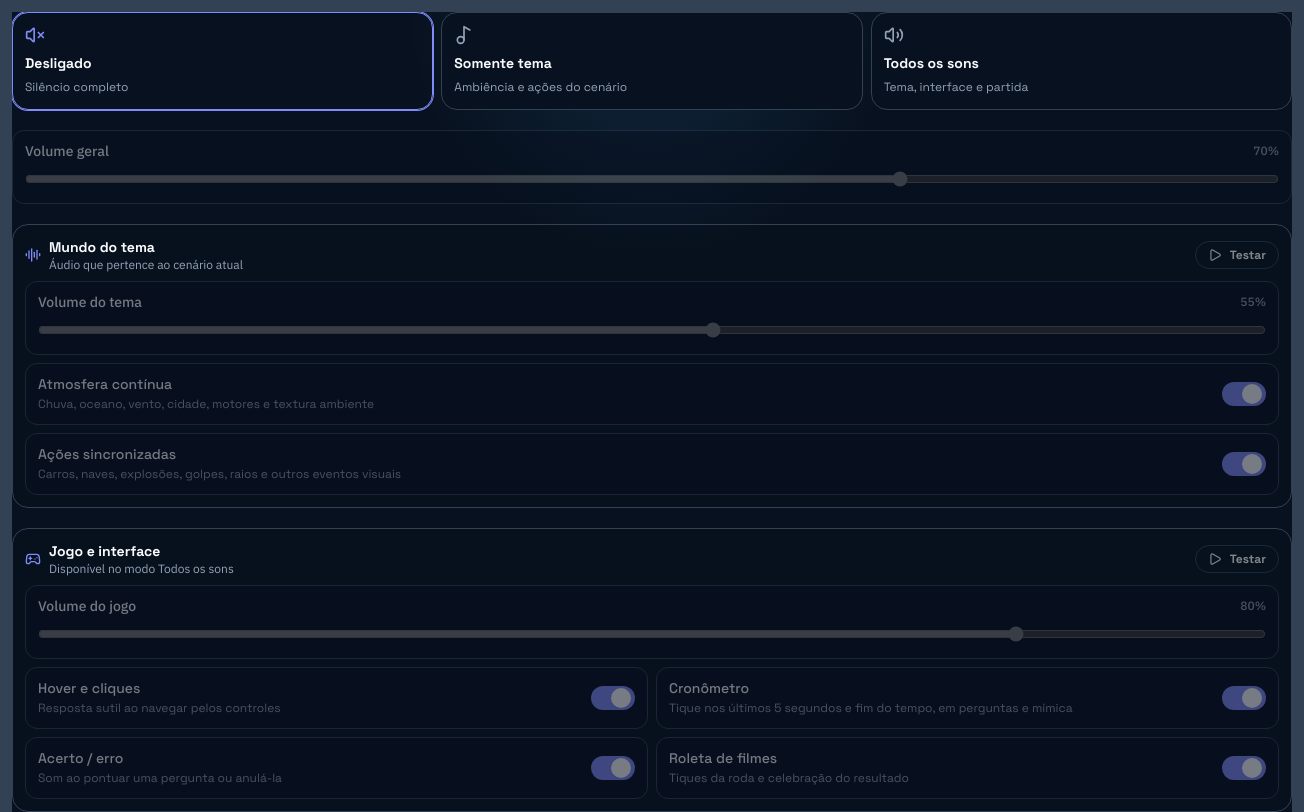
Test: SoundSettingsPanel › alterna entre silêncio, tema e experiência completa
Click the radio button labelled "Somente tema Ambiência e ações do cenário": (503, 63) left=441, top=12, right=863, bottom=110
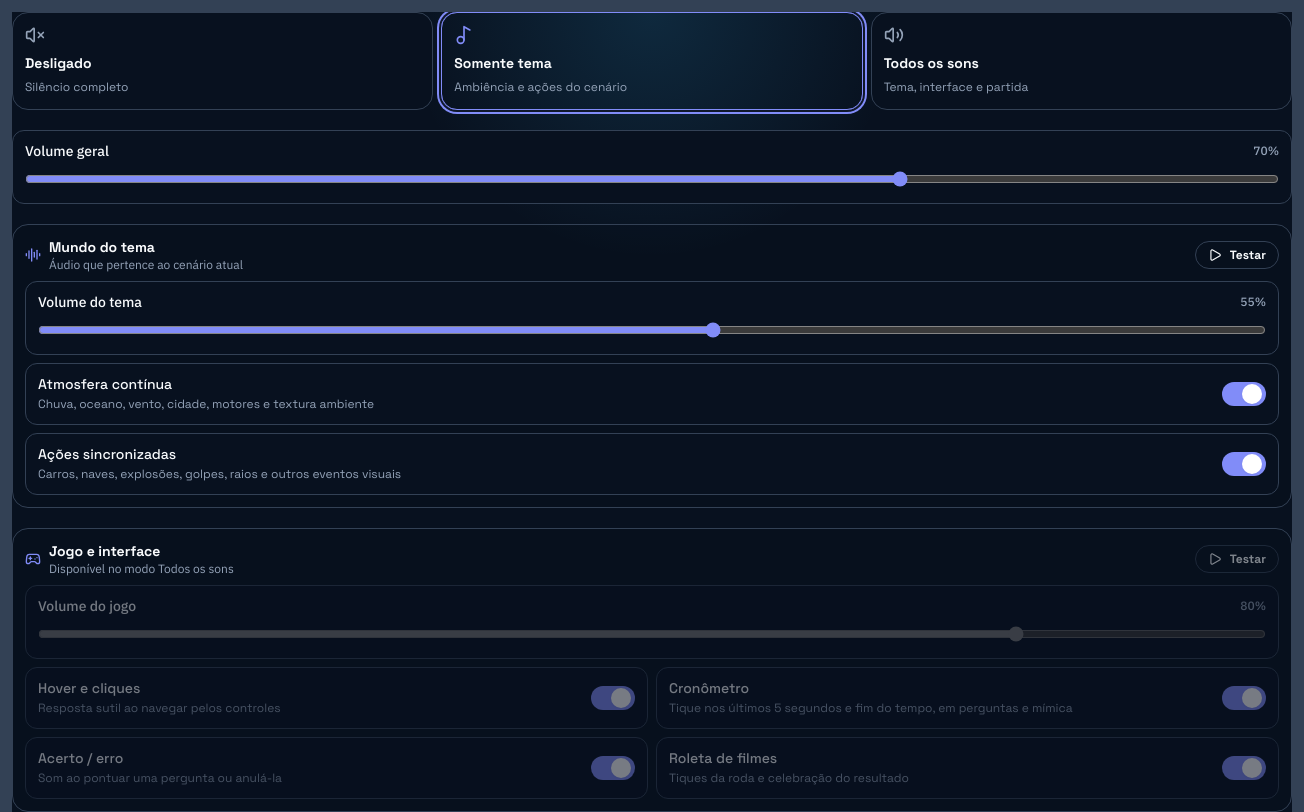
Expected: the switch labelled "Cronômetro" is disabled, left=656, top=667, right=1279, bottom=729
Click the radio button labelled "Todos os sons Tema, interface e partida": (931, 63) left=871, top=12, right=1292, bottom=110
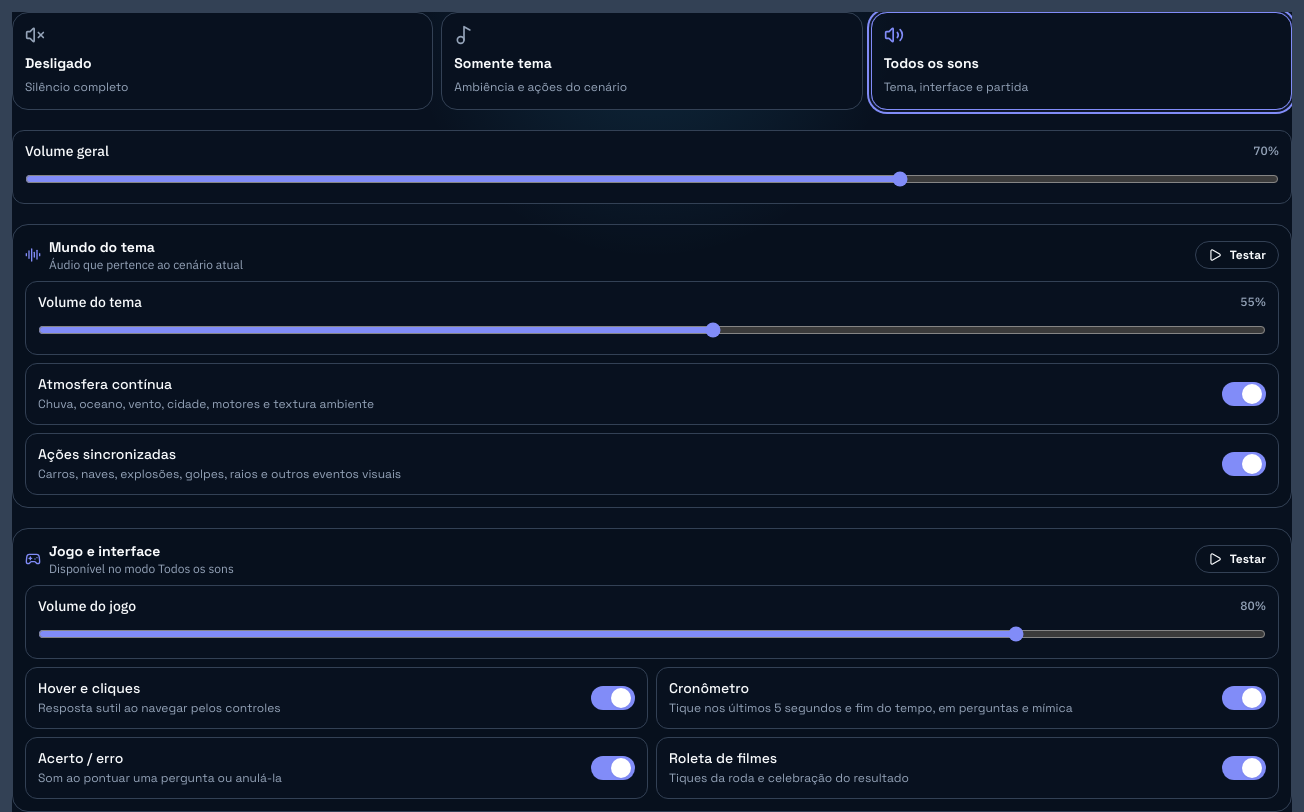
Expected: the switch labelled "Cronômetro" is enabled, left=656, top=667, right=1279, bottom=729
